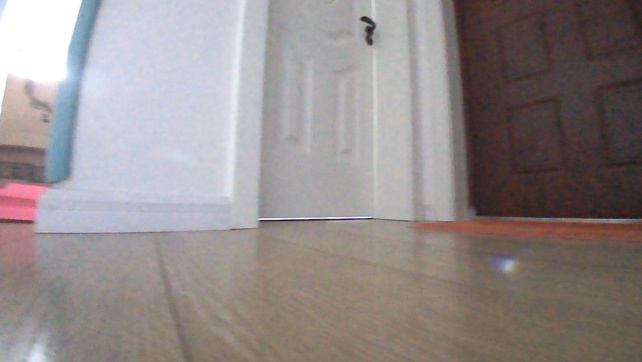blanket: (406, 212, 641, 245)
door_anno: (251, 0, 401, 229)
